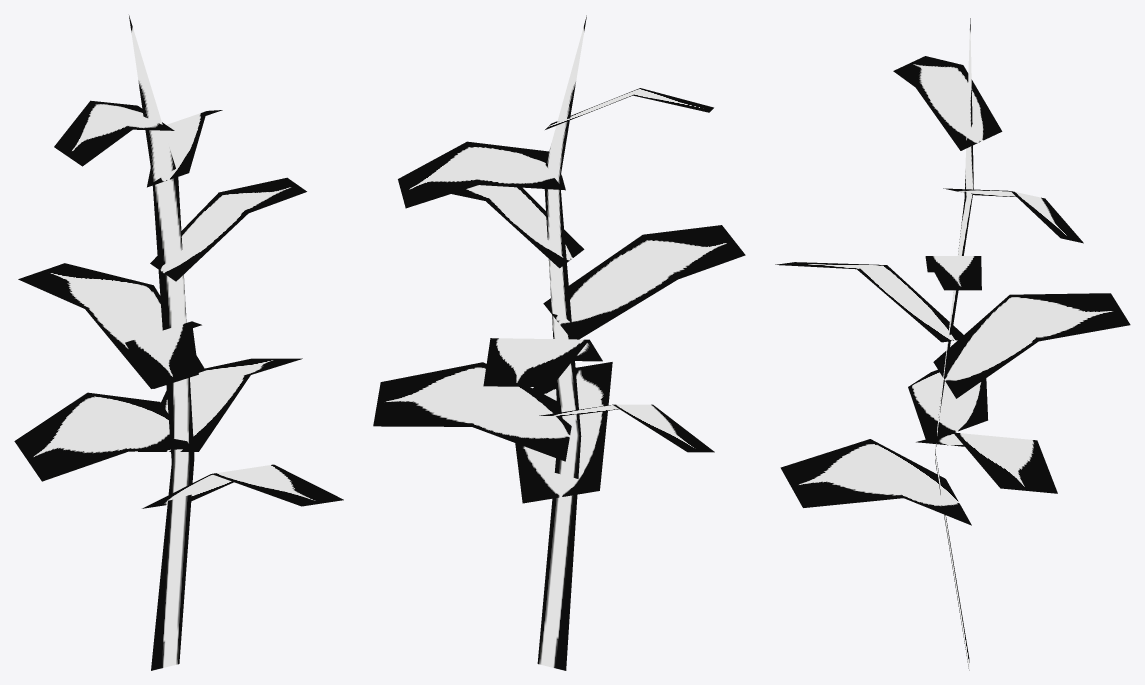
Rendered from Plant1.fbx.
The picture shows the model from 3 angles, left to right: view 1: azimuth 30°, elevation 25°; view 2: azimuth 150°, elevation 25°; view 3: azimuth 270°, elevation 25°; orthographic projection. The views are drawn at different scales.
Visible parts, largest first — view 1: Plant1; view 2: Plant1; view 3: Plant1.
Part boxes in pixels (x1,y1,x2,y2): Plant1: (14, 15, 343, 670); Plant1: (373, 15, 745, 670); Plant1: (775, 18, 1130, 670).
Size of the model in its own units: 25.24 by 53.6 by 27.33.
1 material, 1 textured.
